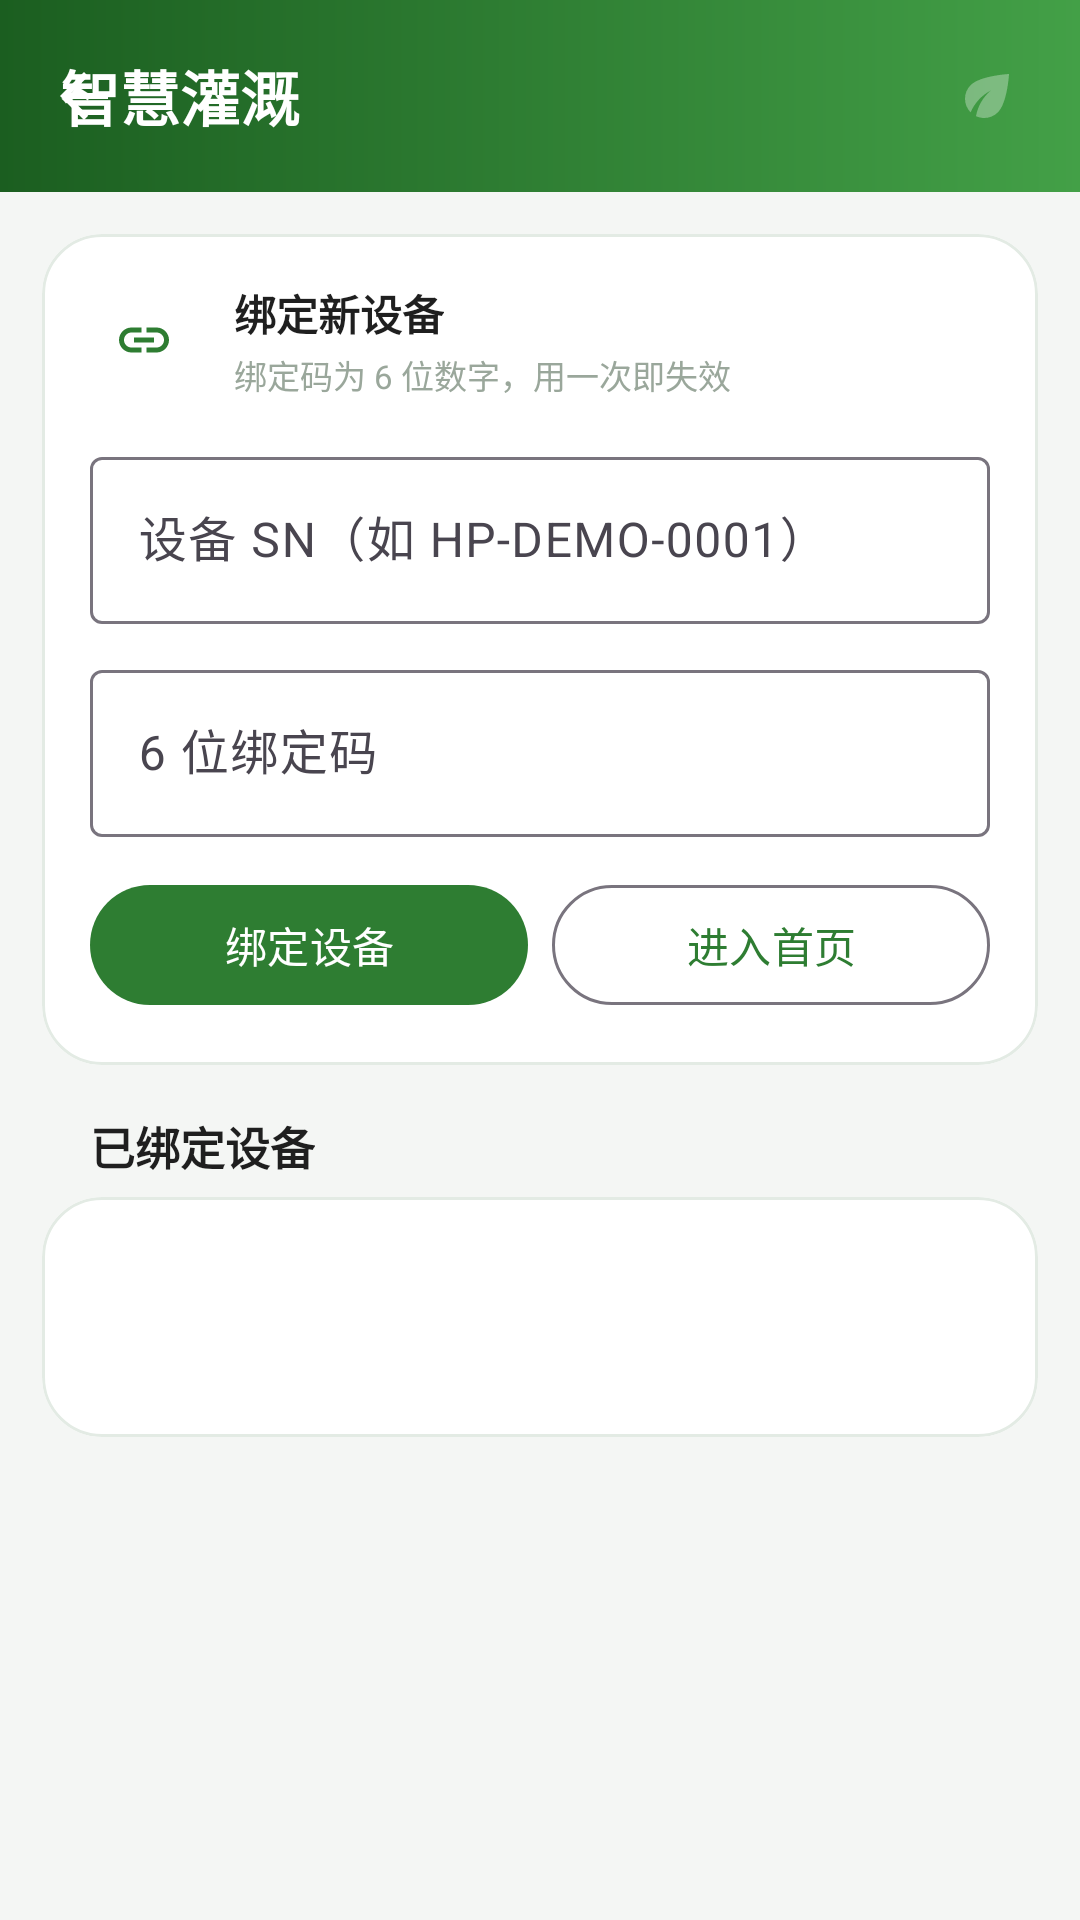

Where icons sit on this 1080px×1920px app screen, as (x1, y1, x2, y2):
leaf: (965, 74, 1009, 118)
link: (119, 327, 169, 353)
